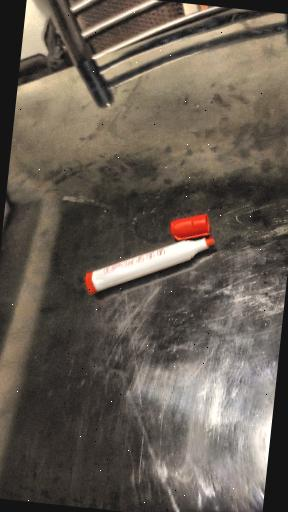marcador rojo: (85, 237, 213, 292)
